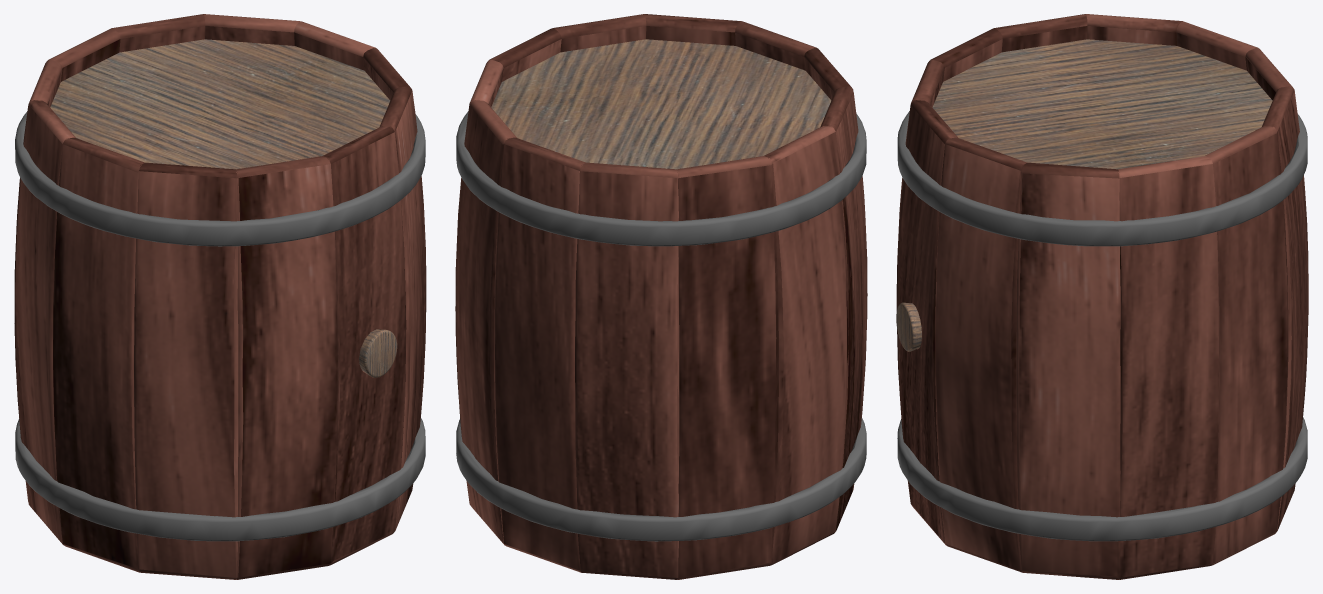
File: barrel.glb
The picture shows the model from 3 angles, left to right: view 1: azimuth 30°, elevation 25°; view 2: azimuth 150°, elevation 25°; view 3: azimuth 270°, elevation 25°; orthographic projection.
Visible parts, largest first — view 1: Barrel; view 2: Barrel; view 3: Barrel.
Boxes of the visible parts, bbox=[...] form: Barrel: bbox=[14, 14, 426, 579]; Barrel: bbox=[455, 14, 867, 579]; Barrel: bbox=[896, 14, 1308, 579].
Bounding box in the file's own units: 0.9991 × 1.09 × 1.
3 materials, 2 textured.
